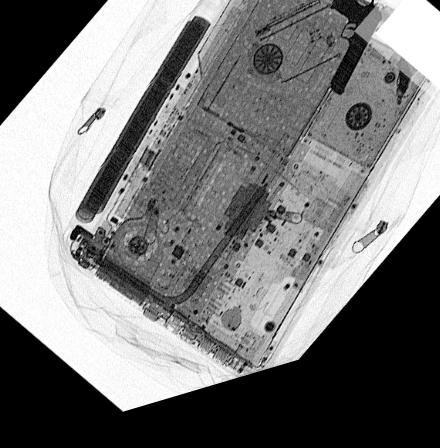Gun: (327, 4, 384, 113)
